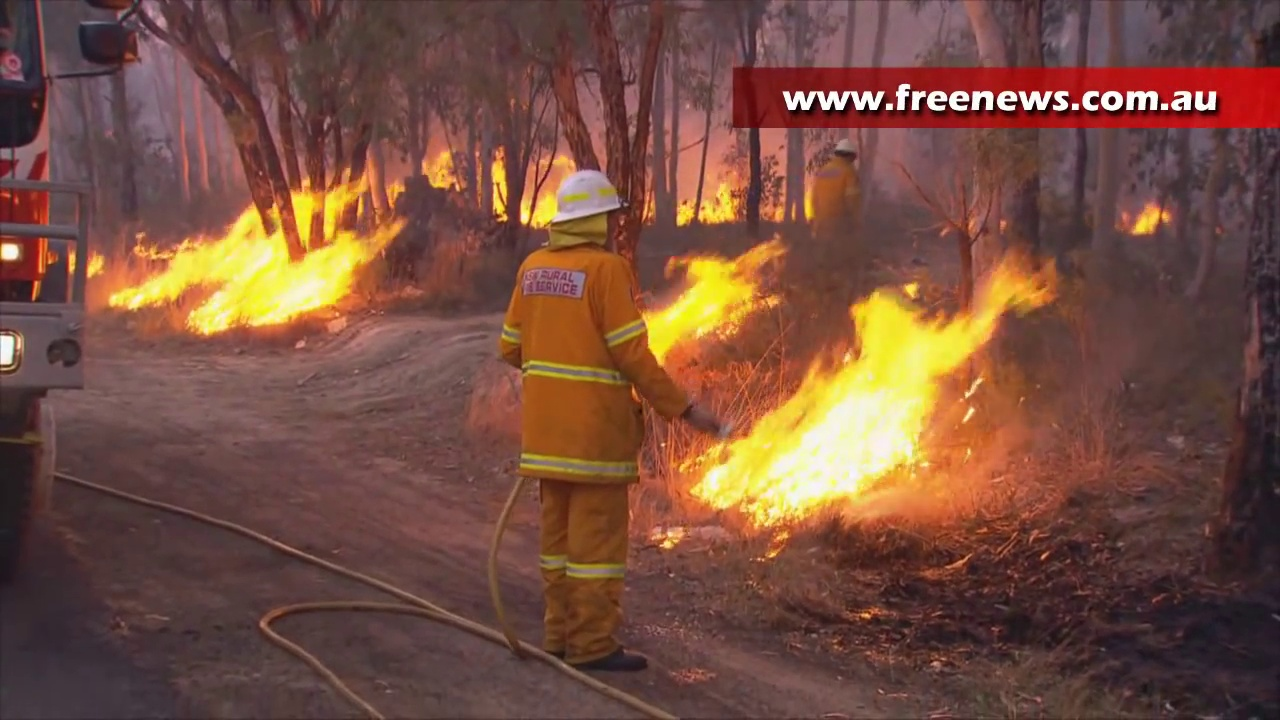fire: (692, 244, 1055, 528), (104, 180, 400, 331), (637, 250, 759, 351), (683, 192, 734, 219), (492, 158, 505, 216), (1138, 201, 1161, 230), (433, 153, 452, 188), (540, 192, 555, 220)
